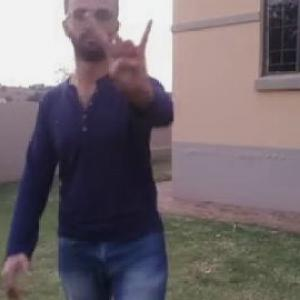takeoff-hand: (76, 6, 161, 96)
